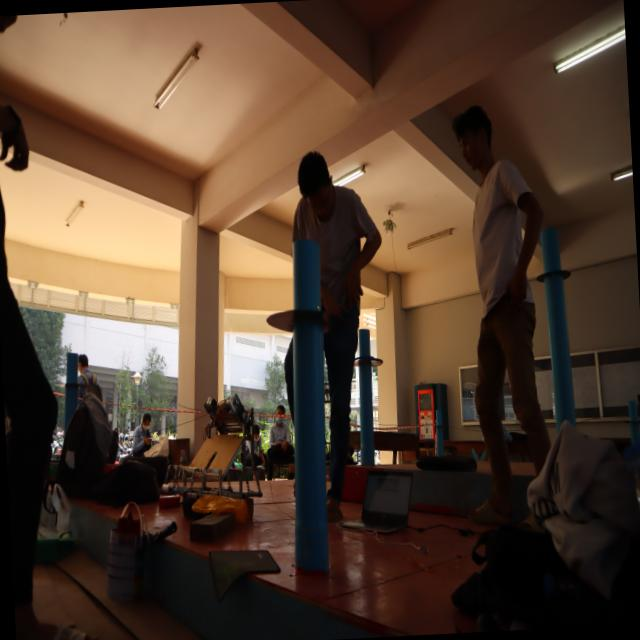pole: (265, 232, 351, 389), (522, 219, 576, 321), (349, 321, 392, 396)
